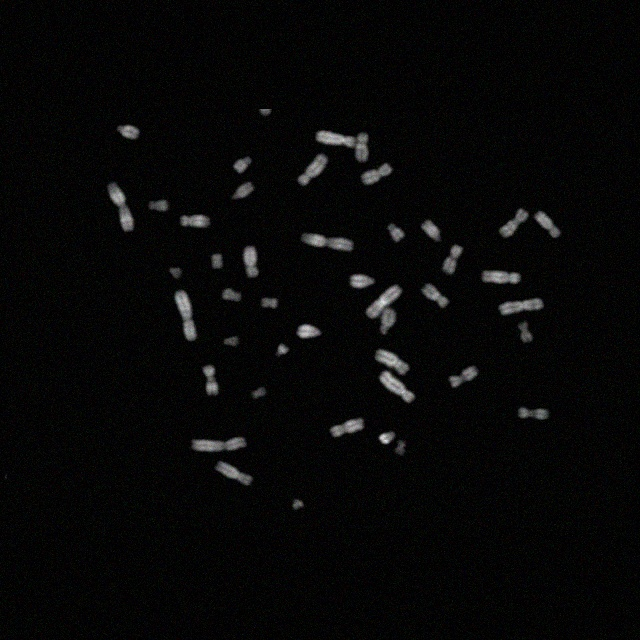chromosome: (107, 182, 135, 232), (366, 285, 404, 319), (301, 230, 355, 252), (174, 289, 196, 341), (380, 372, 414, 402), (215, 459, 252, 486), (298, 153, 326, 187), (374, 347, 408, 375), (190, 435, 248, 451), (316, 128, 356, 150), (500, 208, 528, 238), (328, 417, 364, 439), (500, 298, 542, 316), (535, 211, 561, 237), (362, 164, 392, 186), (442, 244, 463, 274), (422, 284, 448, 308), (202, 364, 220, 398), (482, 269, 520, 285), (449, 366, 476, 388), (243, 244, 260, 278), (182, 212, 210, 230), (422, 219, 442, 243), (378, 308, 396, 334), (296, 324, 324, 340), (231, 182, 255, 200), (518, 406, 548, 420), (356, 131, 370, 161), (387, 222, 405, 244), (116, 124, 140, 140), (349, 274, 376, 288), (148, 198, 170, 215), (233, 156, 253, 174), (518, 321, 532, 343), (167, 260, 183, 278), (222, 289, 242, 303), (378, 430, 396, 444), (210, 253, 224, 269), (394, 439, 408, 455), (223, 336, 240, 348), (290, 498, 304, 512), (261, 297, 277, 309), (276, 344, 290, 356), (253, 388, 267, 399)
